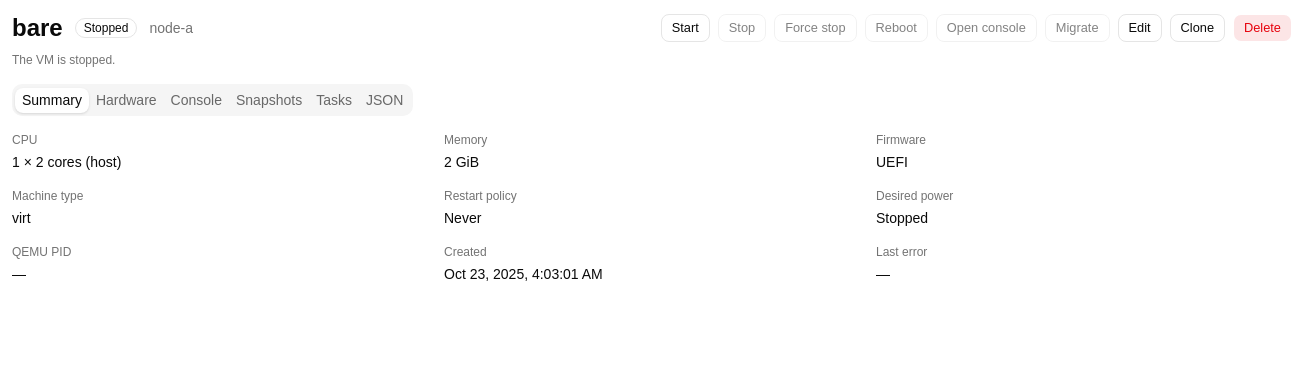
Scenario: names its hardware tables and says when they are empty
Click the tab "Hardware" at x=126, y=100, box [89,88,164,112]
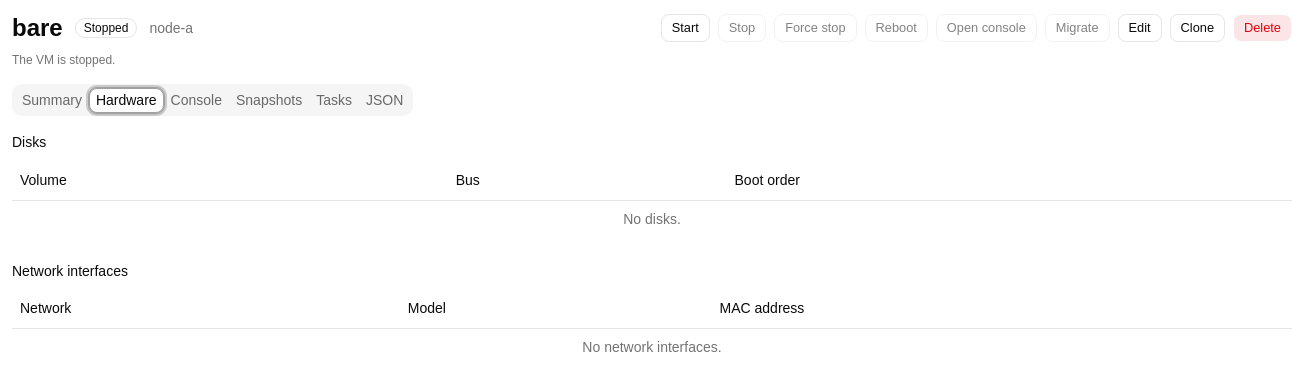
Check: the text "No disks." is shown, box [12,200,1292,236]
Check: the text "No network interfaces." is shown, box [12,328,1292,365]
Click the tab "Tasks" at x=334, y=100, box [309,88,359,112]
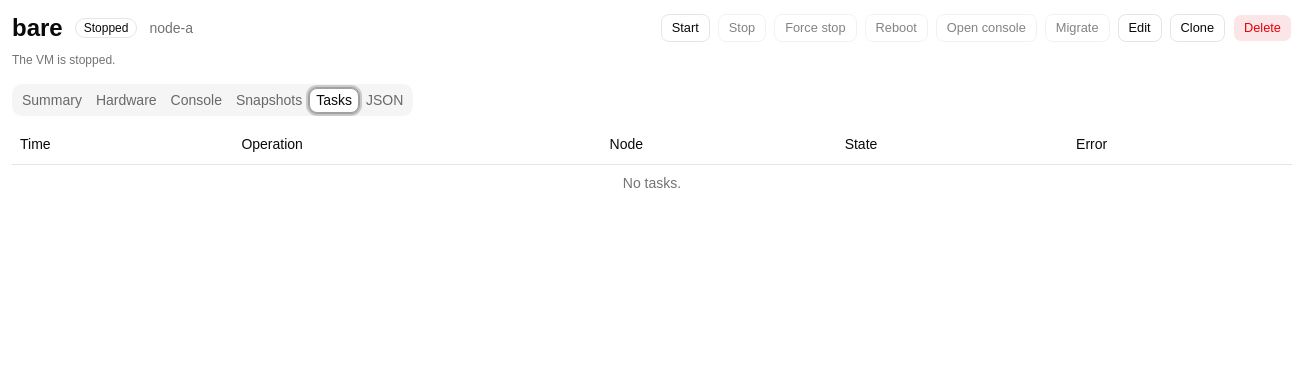
Check: the table "tasks" is shown, box [12,124,1292,200]
